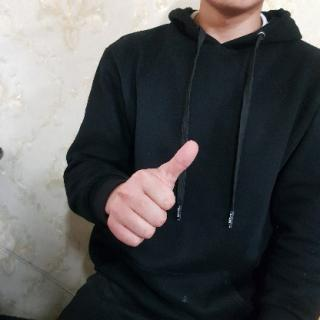ALIF: (103, 135, 202, 251)
